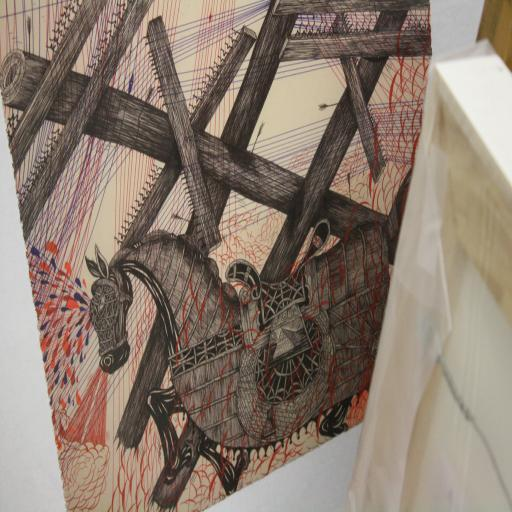horse: (86, 157, 415, 496)
